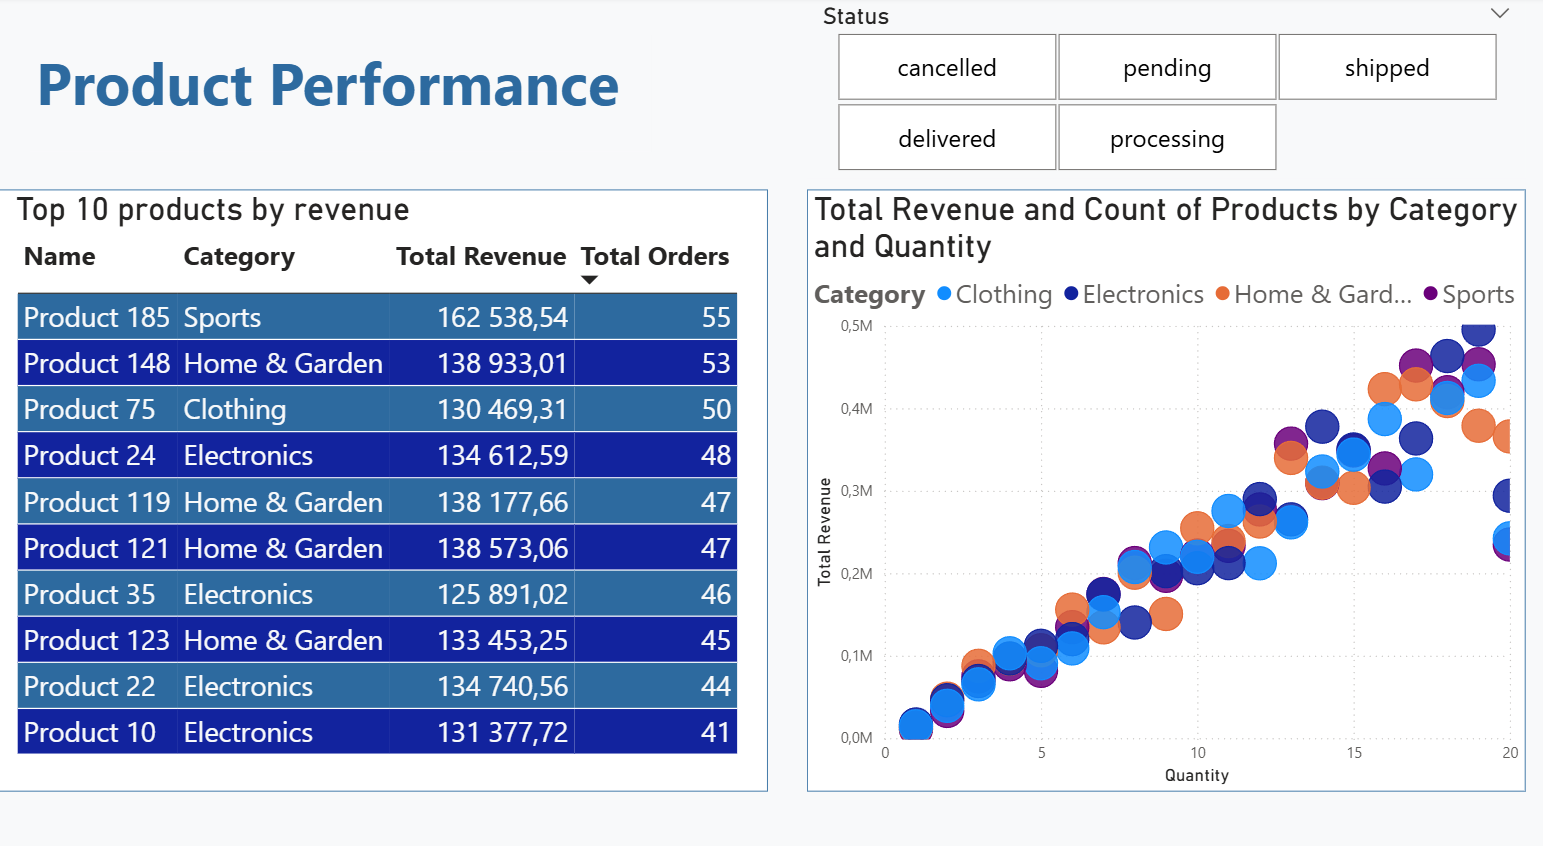

The dashboard page shown, as its layout file describes it:
{"tool":"powerbi","page":{"name":"Product Performance","canvas":[1280,720],"ordinal":1},"visuals":[{"type":"textbox","box":[32,32,512,96],"z":0},{"type":"tableEx","title":"Top 10 products by revenue","fields":{"Values":["DIM_PRODUCT.PRODUCT_NAME","DIM_PRODUCT.PRODUCT_CATEGORY","_Measures.Total Revenue","_Measures.Total Orders"]},"box":[0,160,640,496],"z":1000},{"type":"scatterChart","fields":{"X":["FACT_ORDERS.QUANTITY"],"Y":["_Measures.Total Revenue"],"Series":["DIM_PRODUCT.PRODUCT_CATEGORY"],"Size":["CountNonNull(DIM_PRODUCT.PRODUCT_ID)"]},"box":[672,160,592,496],"z":2000},{"type":"slicer","fields":{"Values":["FACT_ORDERS.STATUS"]},"box":[672,0,592,150],"z":3000}]}

Visuals, with their boxes in screenshot pixels (x1, y1, x2, y2), scaled from the page's 1280x720 canvas onto the 1543x846 screenshot:
textbox: {"left": 39, "top": 38, "right": 656, "bottom": 150}
"Top 10 products by revenue" tableEx: {"left": 0, "top": 188, "right": 772, "bottom": 771}
scatterChart - FACT_ORDERS.QUANTITY x _Measures.Total Revenue: {"left": 810, "top": 188, "right": 1524, "bottom": 771}
slicer - FACT_ORDERS.STATUS: {"left": 810, "top": 0, "right": 1524, "bottom": 176}
